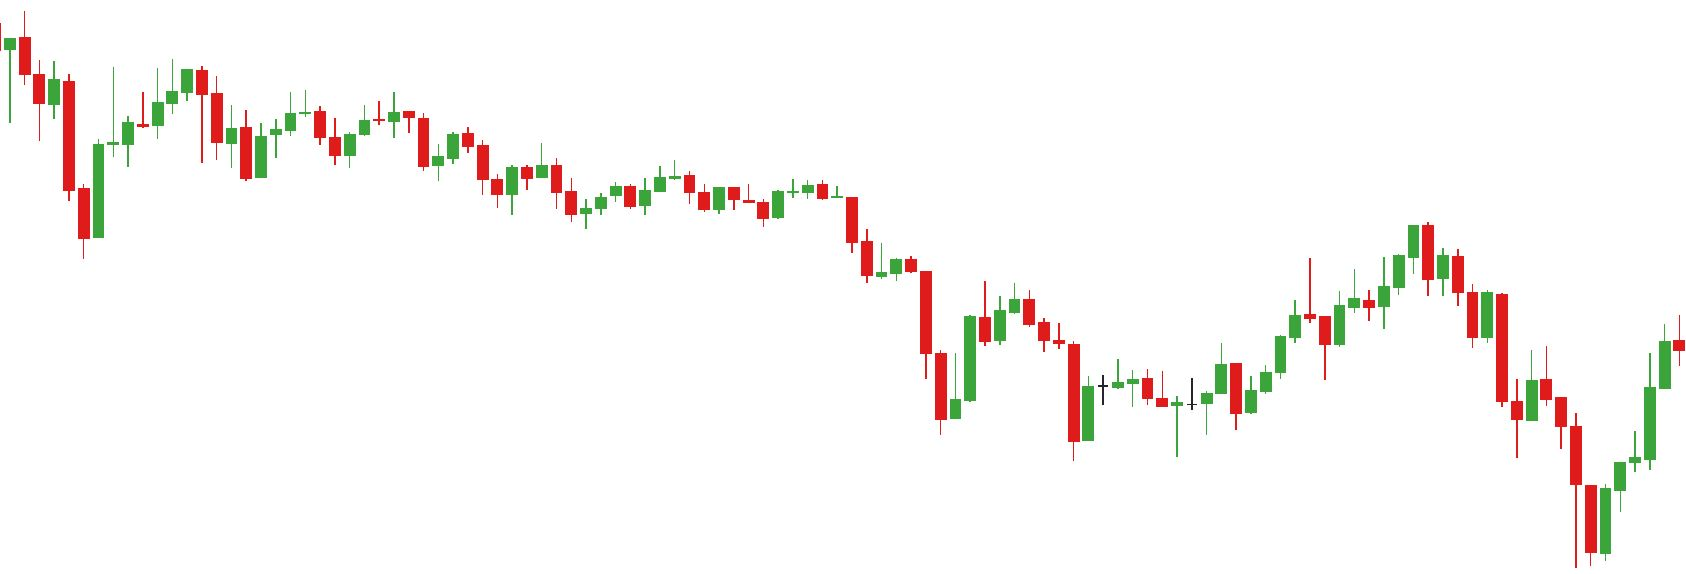buy: (933, 340, 1096, 465)
